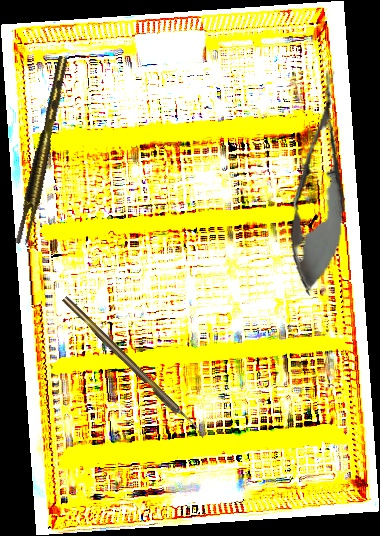Hook Surgical: (61, 295, 200, 433)
Micro Scissor: (283, 66, 357, 298)
Tissue Forceps: (9, 55, 78, 247)
